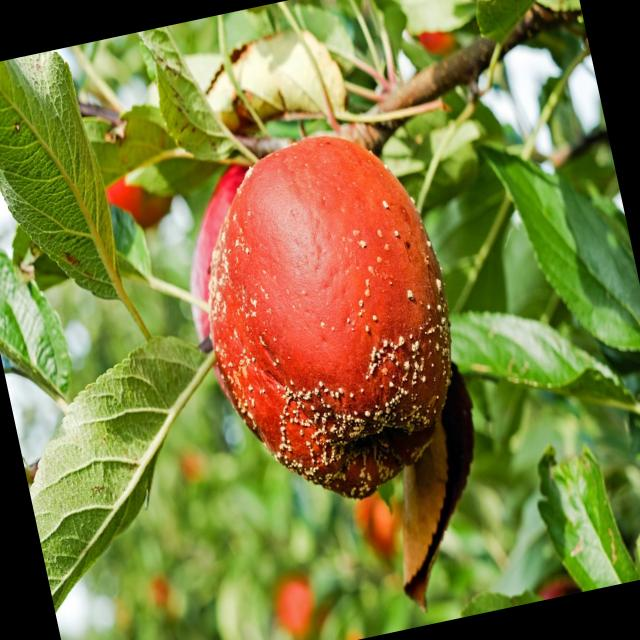apple: (178, 121, 490, 528)
